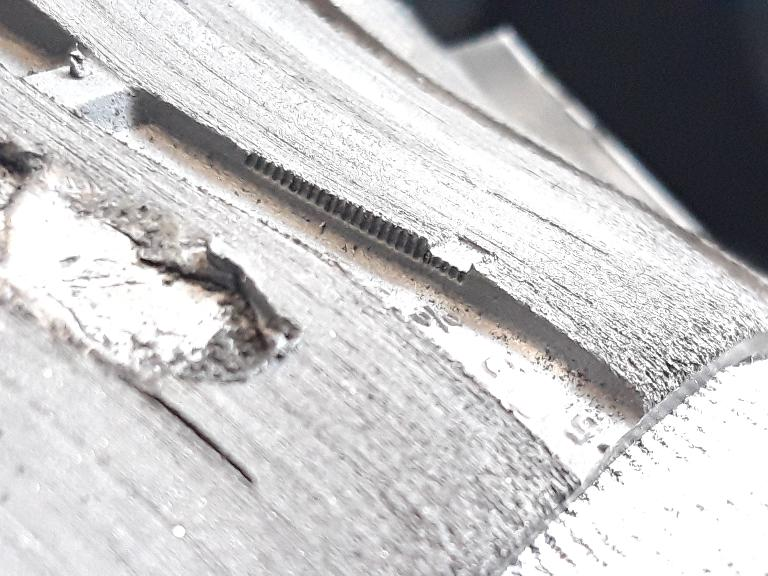temoin:0: (391, 205, 502, 296)
